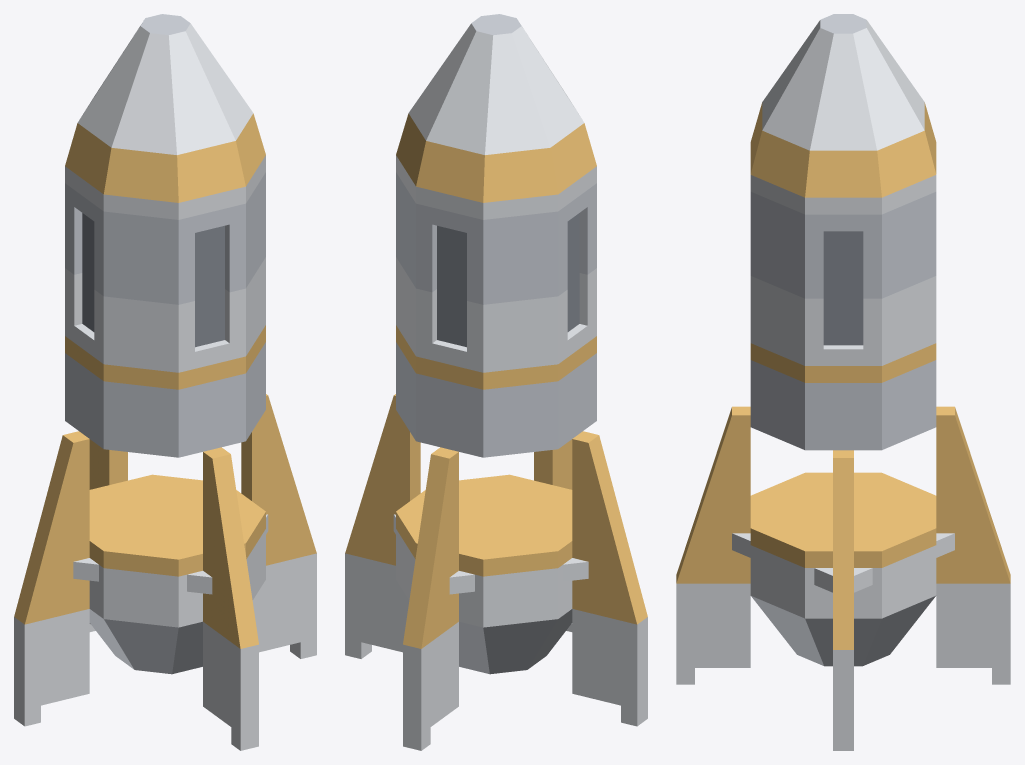
The model's file is star_rocket.glb.
3 renders of one model, left to right at view 1: azimuth 30°, elevation 25°; view 2: azimuth 150°, elevation 25°; view 3: azimuth 270°, elevation 25°, orthographic.
Visible parts, largest first — view 1: rocket_baseA, rocket_sidesA, rocket_topA, rocket_fuelA; view 2: rocket_baseA, rocket_sidesA, rocket_topA, rocket_fuelA; view 3: rocket_baseA, rocket_sidesA, rocket_topA, rocket_fuelA.
Part boxes in pixels (box(x1,y1,x2,y2)): rocket_baseA: box(14, 394, 316, 750); rocket_sidesA: box(65, 155, 265, 372); rocket_topA: box(65, 14, 265, 202); rocket_fuelA: box(65, 325, 265, 457); rocket_baseA: box(345, 394, 647, 750); rocket_sidesA: box(396, 155, 596, 372); rocket_topA: box(396, 14, 596, 202); rocket_fuelA: box(396, 325, 596, 457); rocket_baseA: box(676, 406, 1010, 750); rocket_sidesA: box(750, 175, 936, 365); rocket_topA: box(750, 14, 936, 197); rocket_fuelA: box(750, 343, 936, 450).
Size of the model in its own units: 1.8 by 3.9 by 1.8.
